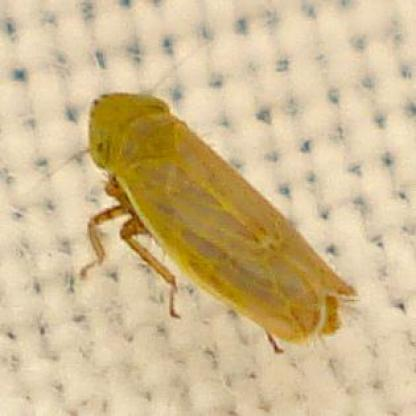green-leafhopper: (92, 95, 336, 341)
